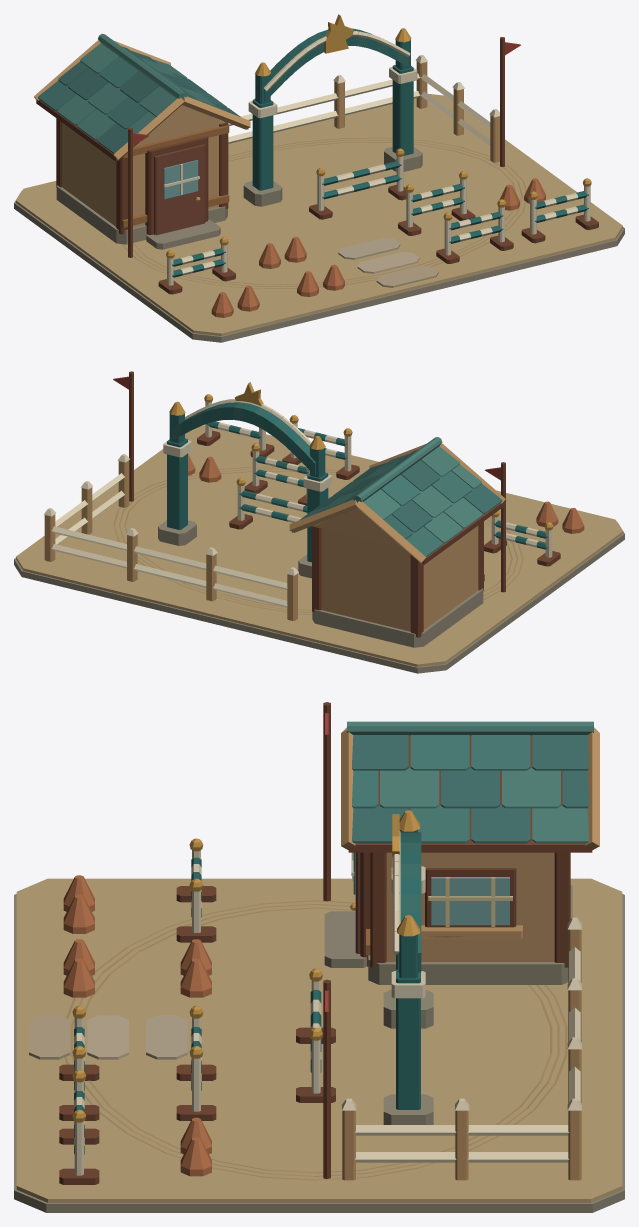
3 renders of one model, top to bottom at view 1: azimuth 30°, elevation 25°; view 2: azimuth 150°, elevation 25°; view 3: azimuth 270°, elevation 25°, orthographic. The views are drawn at different scales.
Parts seen in each view (by area): view 1: Base, Staff10, Staff08, Staff06, Staff03, Staff05, Staff07, Staff09, Staff04; view 2: Base, Staff03, Staff06, Staff10, Staff08, Staff07, Staff04; view 3: Base, Staff08, Staff06, Staff03, Staff10, Staff04, Staff09, Staff07, Staff05.
Part boxes in pixels (left/top/right/bottom): Base: left=14, top=14, right=624, bottom=342; Staff10: left=436, top=199, right=513, bottom=263; Staff08: left=521, top=178, right=598, bottom=243; Staff06: left=398, top=171, right=475, bottom=235; Staff03: left=158, top=237, right=235, bottom=294; Staff05: left=259, top=236, right=306, bottom=268; Staff07: left=211, top=285, right=259, bottom=317; Staff09: left=297, top=264, right=344, bottom=296; Staff04: left=499, top=178, right=545, bottom=210; Base: left=14, top=371, right=624, bottom=673; Staff03: left=484, top=511, right=560, bottom=566; Staff06: left=244, top=443, right=309, bottom=505; Staff10: left=282, top=415, right=359, bottom=479; Staff08: left=197, top=394, right=274, bottom=457; Staff07: left=536, top=501, right=584, bottom=533; Staff04: left=188, top=453, right=221, bottom=482; Base: left=14, top=702, right=624, bottom=1212; Staff08: left=59, top=1069, right=99, bottom=1184; Staff06: left=176, top=1005, right=216, bottom=1120; Staff03: left=176, top=838, right=216, bottom=942; Staff10: left=59, top=1005, right=99, bottom=1120; Staff04: left=180, top=1117, right=211, bottom=1176; Staff09: left=63, top=939, right=94, bottom=997; Staff07: left=63, top=875, right=94, bottom=933; Staff05: left=180, top=939, right=211, bottom=997.
Size of the model in its own units: 9 by 3.52 by 7.2.
